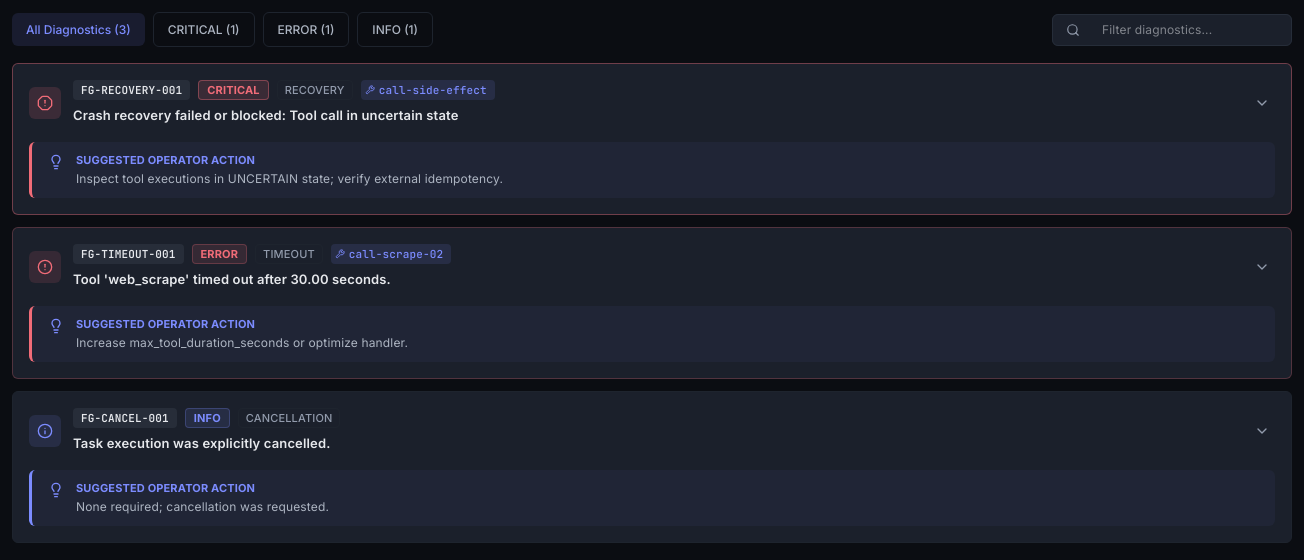
Scenario: FailureDiagnosticsCard Component › filters diagnostics by severity buttons
// Click CRITICAL filter
Click the button "CRITICAL (1)" at (204, 30), box left=153, top=12, right=254, bottom=47
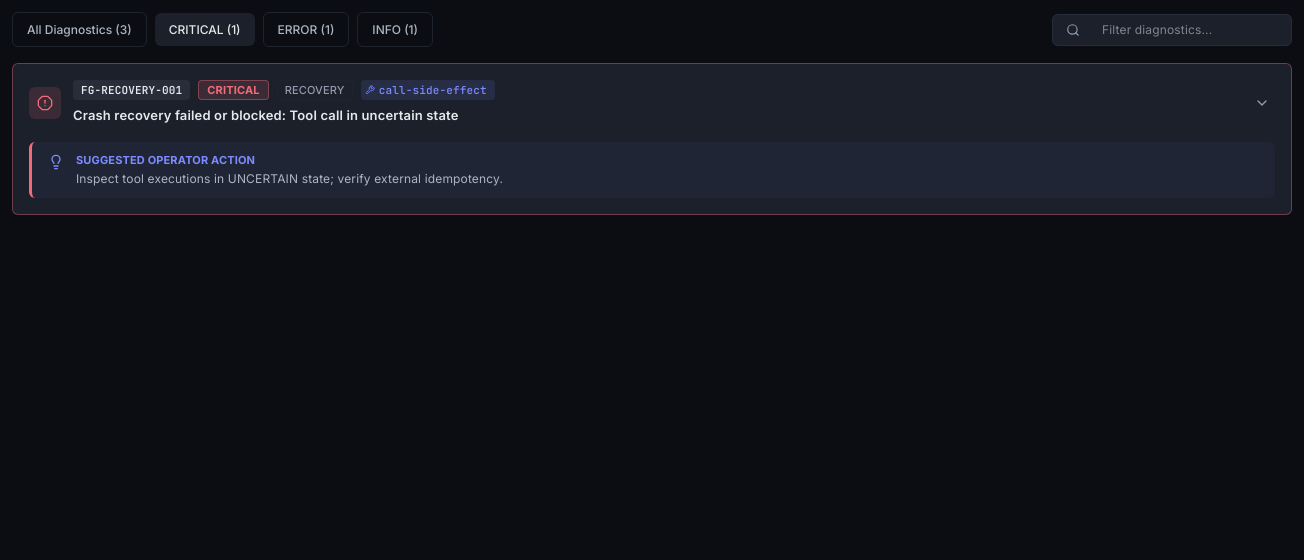
Expected: the text "FG-RECOVERY-001" is shown, left=73, top=82, right=190, bottom=98
Expected: the text "FG-TIMEOUT-001" is gone
Expected: the text "FG-CANCEL-001" is gone
// Click All Diagnostics
Click the button "All Diagnostics (3)" at (79, 30), box left=12, top=12, right=147, bottom=47
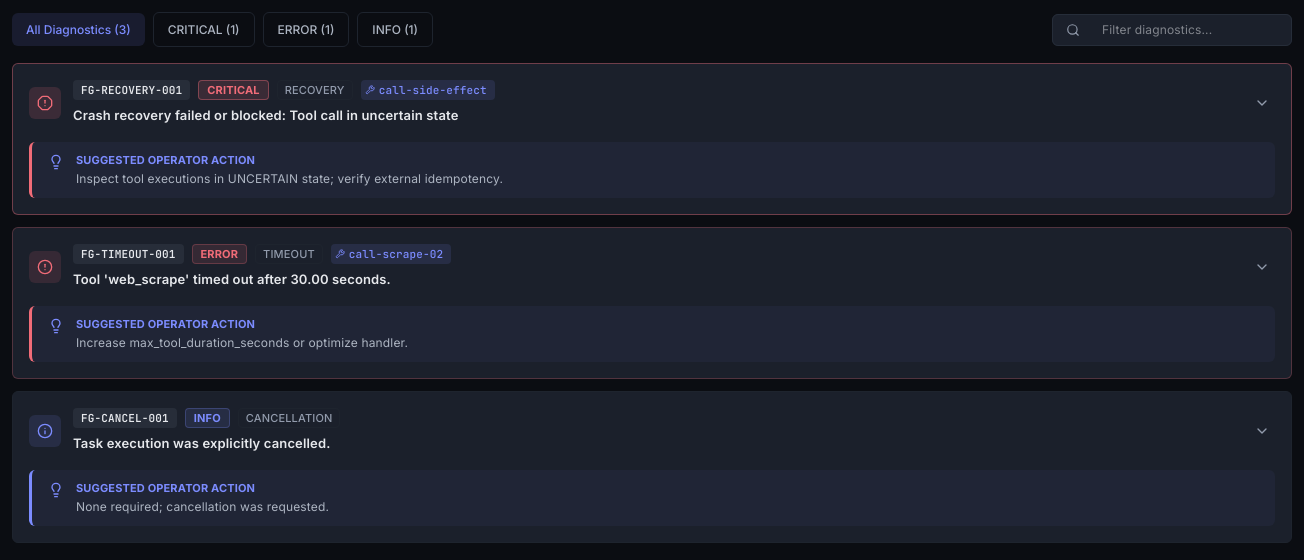
Expected: the text "FG-TIMEOUT-001" is shown, left=73, top=246, right=184, bottom=262
